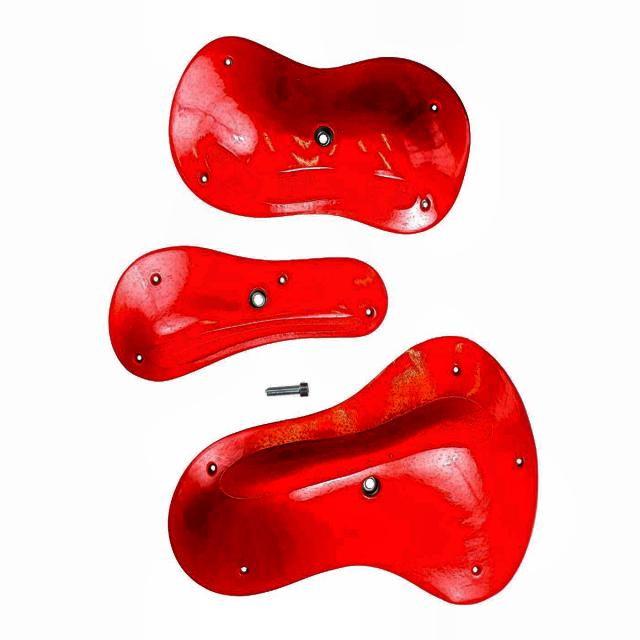Hold: (162, 336, 537, 606), (167, 35, 473, 234), (104, 246, 390, 383)
